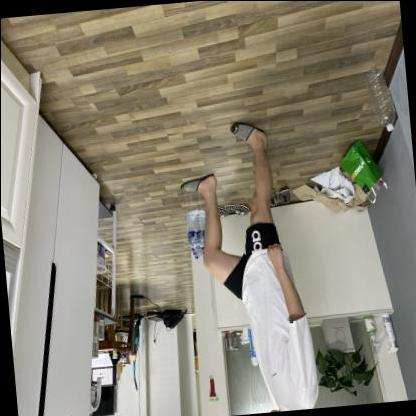no_safety-shoe: (227, 114, 274, 160), (178, 161, 219, 205)
